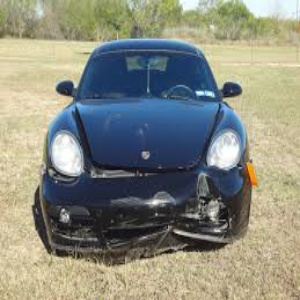bumper: (53, 197, 228, 257)
